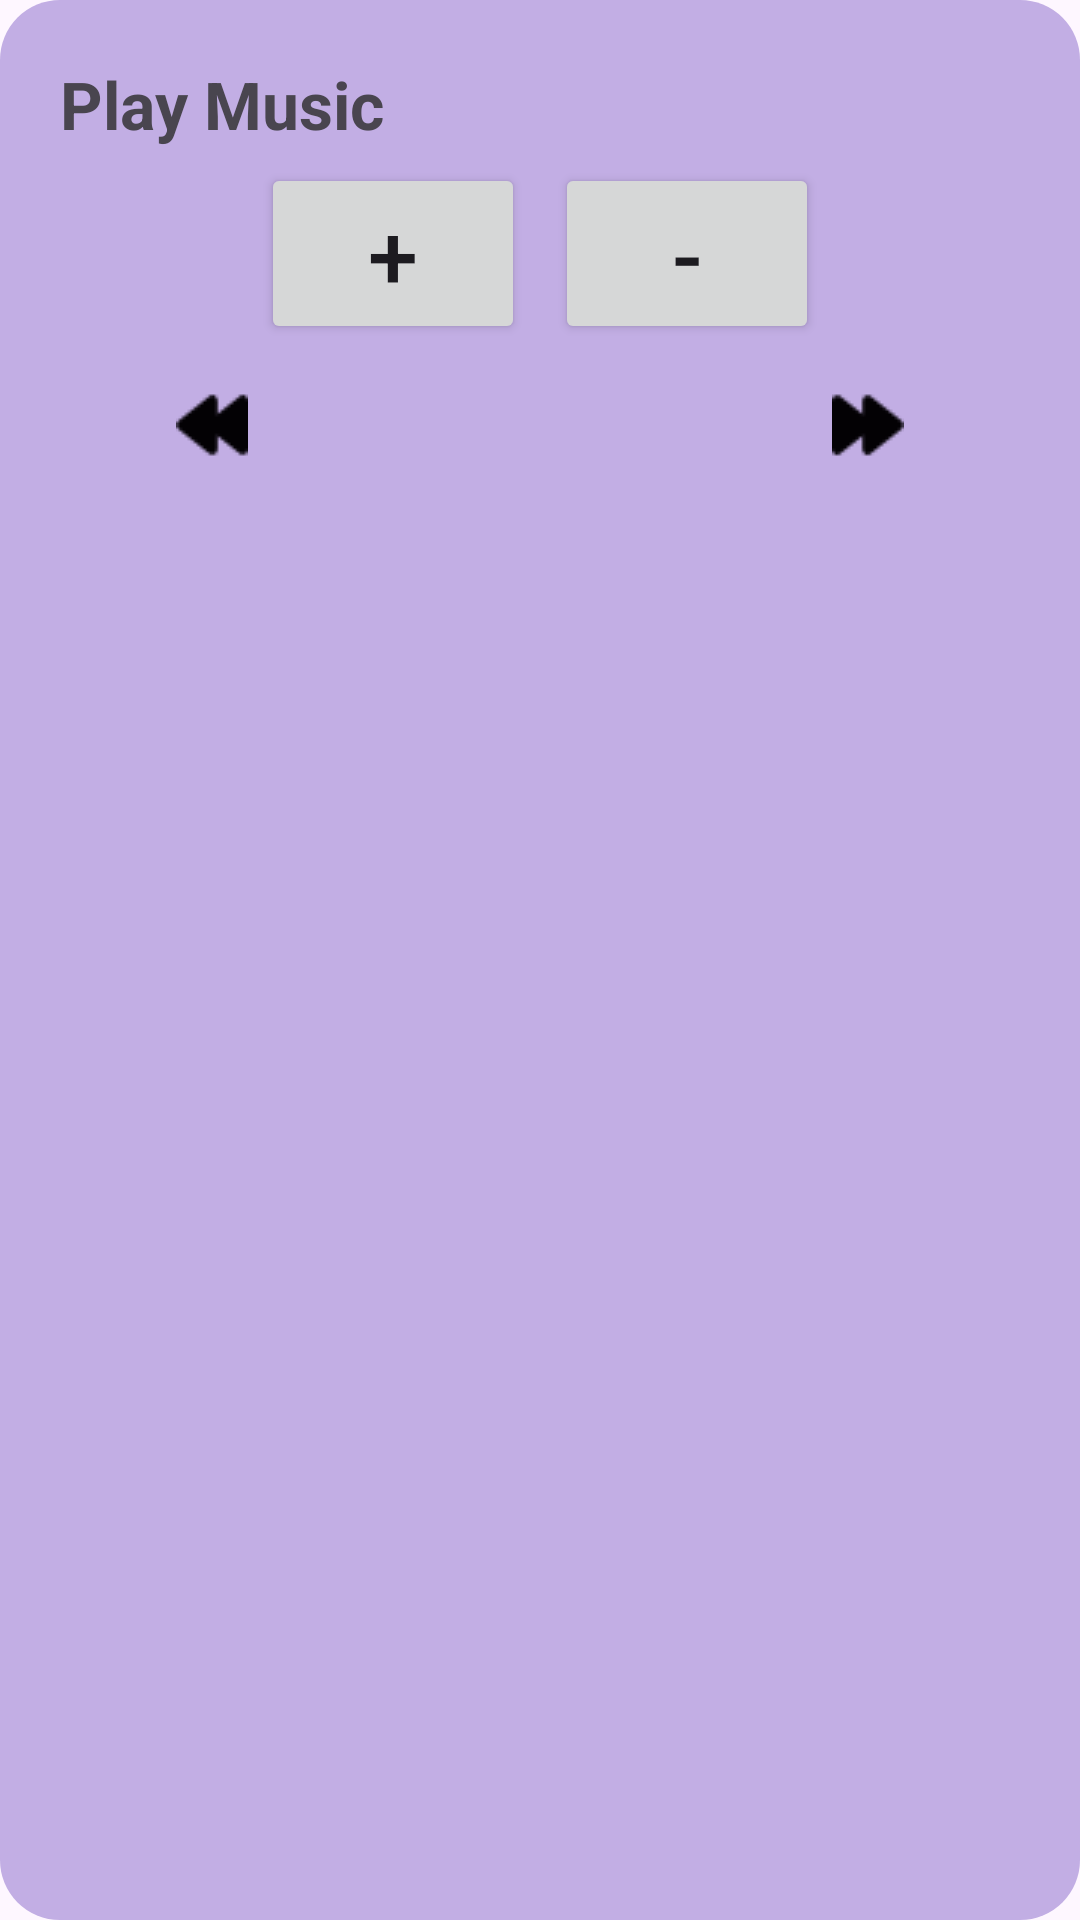

Icon bounding boxes for this 1080w x 1920h phone screenshot, format (x1, y1, x2, y2):
back: (176, 394, 248, 456)
next: (832, 394, 904, 456)
